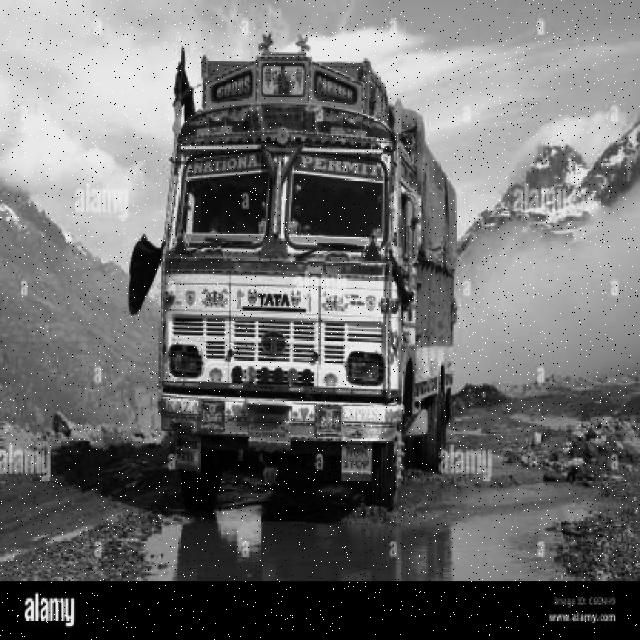HCV: (106, 43, 460, 491)
